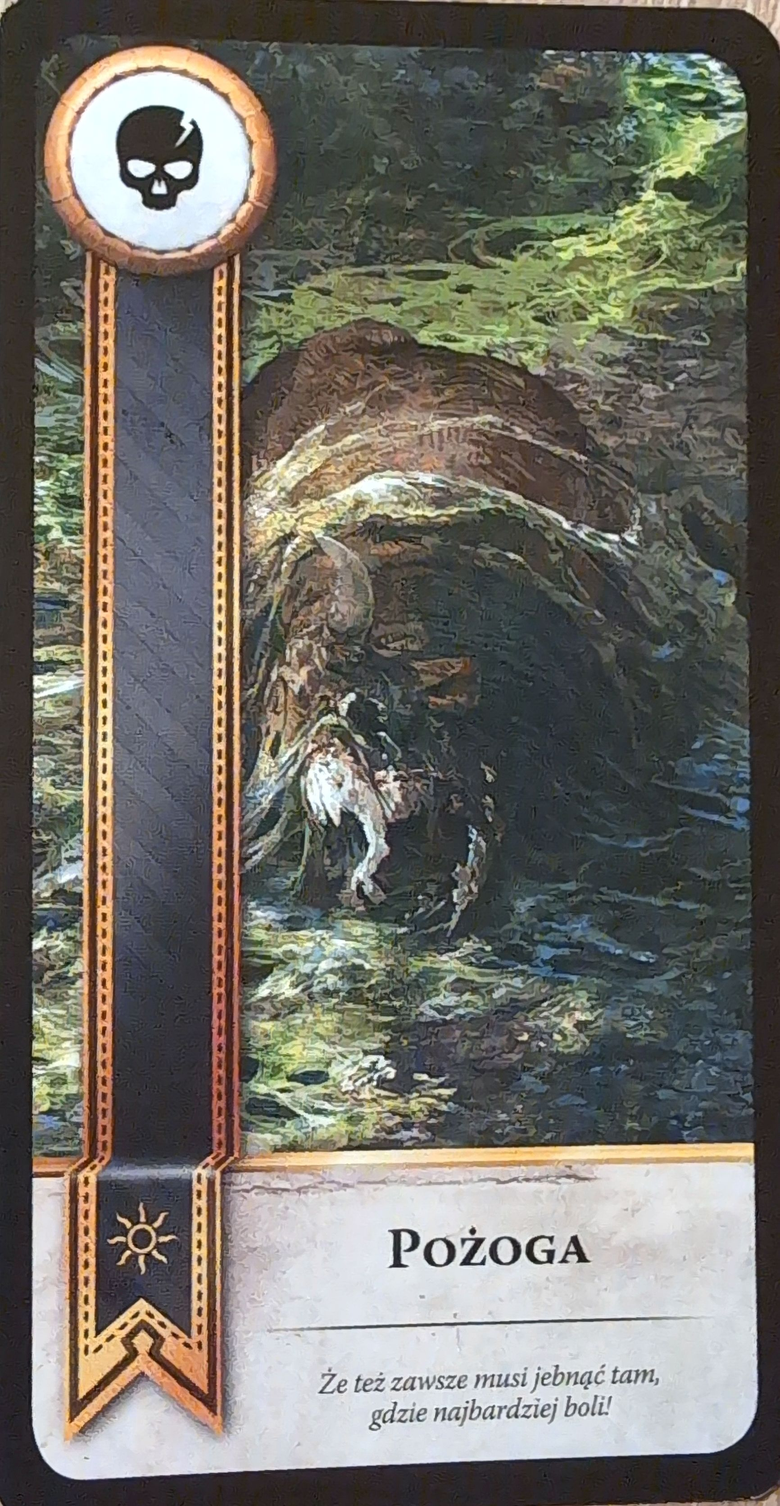pozoga: (47, 41, 281, 278)
